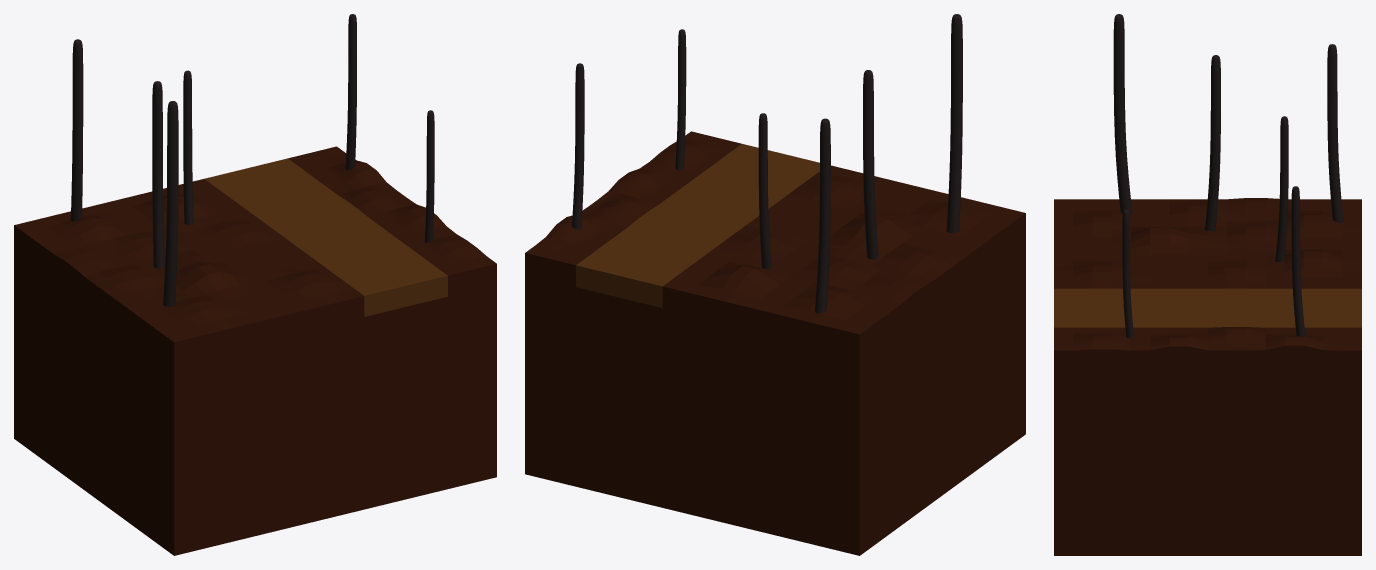
The model's file is terrain boue.fbx.
3 views of the same model, side by side, from view 1: azimuth 30°, elevation 25°; view 2: azimuth 150°, elevation 25°; view 3: azimuth 270°, elevation 25° (orthographic). The views are drawn at different scales.
Parts seen in each view (by area): view 1: Cube, Cylinder.002, Cylinder.003, Cylinder.004, Cylinder.005, Cylinder.009, Cylinder.008; view 2: Cube, Cylinder.002, Cylinder.004, Cylinder.003, Cylinder.009, Cylinder.005, Cylinder.008; view 3: Cube, Cylinder.002, Cylinder.004, Cylinder.003, Cylinder.009, Cylinder.005, Cylinder.008.
Part boxes in pixels (<box>): Cube: <box>14,146,496,555</box>; Cylinder.002: <box>163,101,178,306</box>; Cylinder.003: <box>152,81,164,268</box>; Cylinder.004: <box>70,39,83,221</box>; Cylinder.005: <box>183,70,193,225</box>; Cylinder.009: <box>345,14,356,170</box>; Cylinder.008: <box>424,110,434,242</box>; Cube: <box>525,131,1025,555</box>; Cylinder.002: <box>946,14,962,233</box>; Cylinder.004: <box>815,118,830,313</box>; Cylinder.003: <box>863,70,878,259</box>; Cylinder.009: <box>572,63,584,229</box>; Cylinder.005: <box>758,113,771,268</box>; Cylinder.008: <box>675,29,686,170</box>; Cube: <box>1054,198,1361,555</box>; Cylinder.002: <box>1113,14,1132,213</box>; Cylinder.004: <box>1327,44,1343,222</box>; Cylinder.003: <box>1205,55,1220,230</box>; Cylinder.009: <box>1291,186,1305,336</box>; Cylinder.005: <box>1275,116,1288,261</box>; Cylinder.008: <box>1122,209,1134,338</box>.
Bounding box in the file's own units: 3851 × 4805 × 3310.
